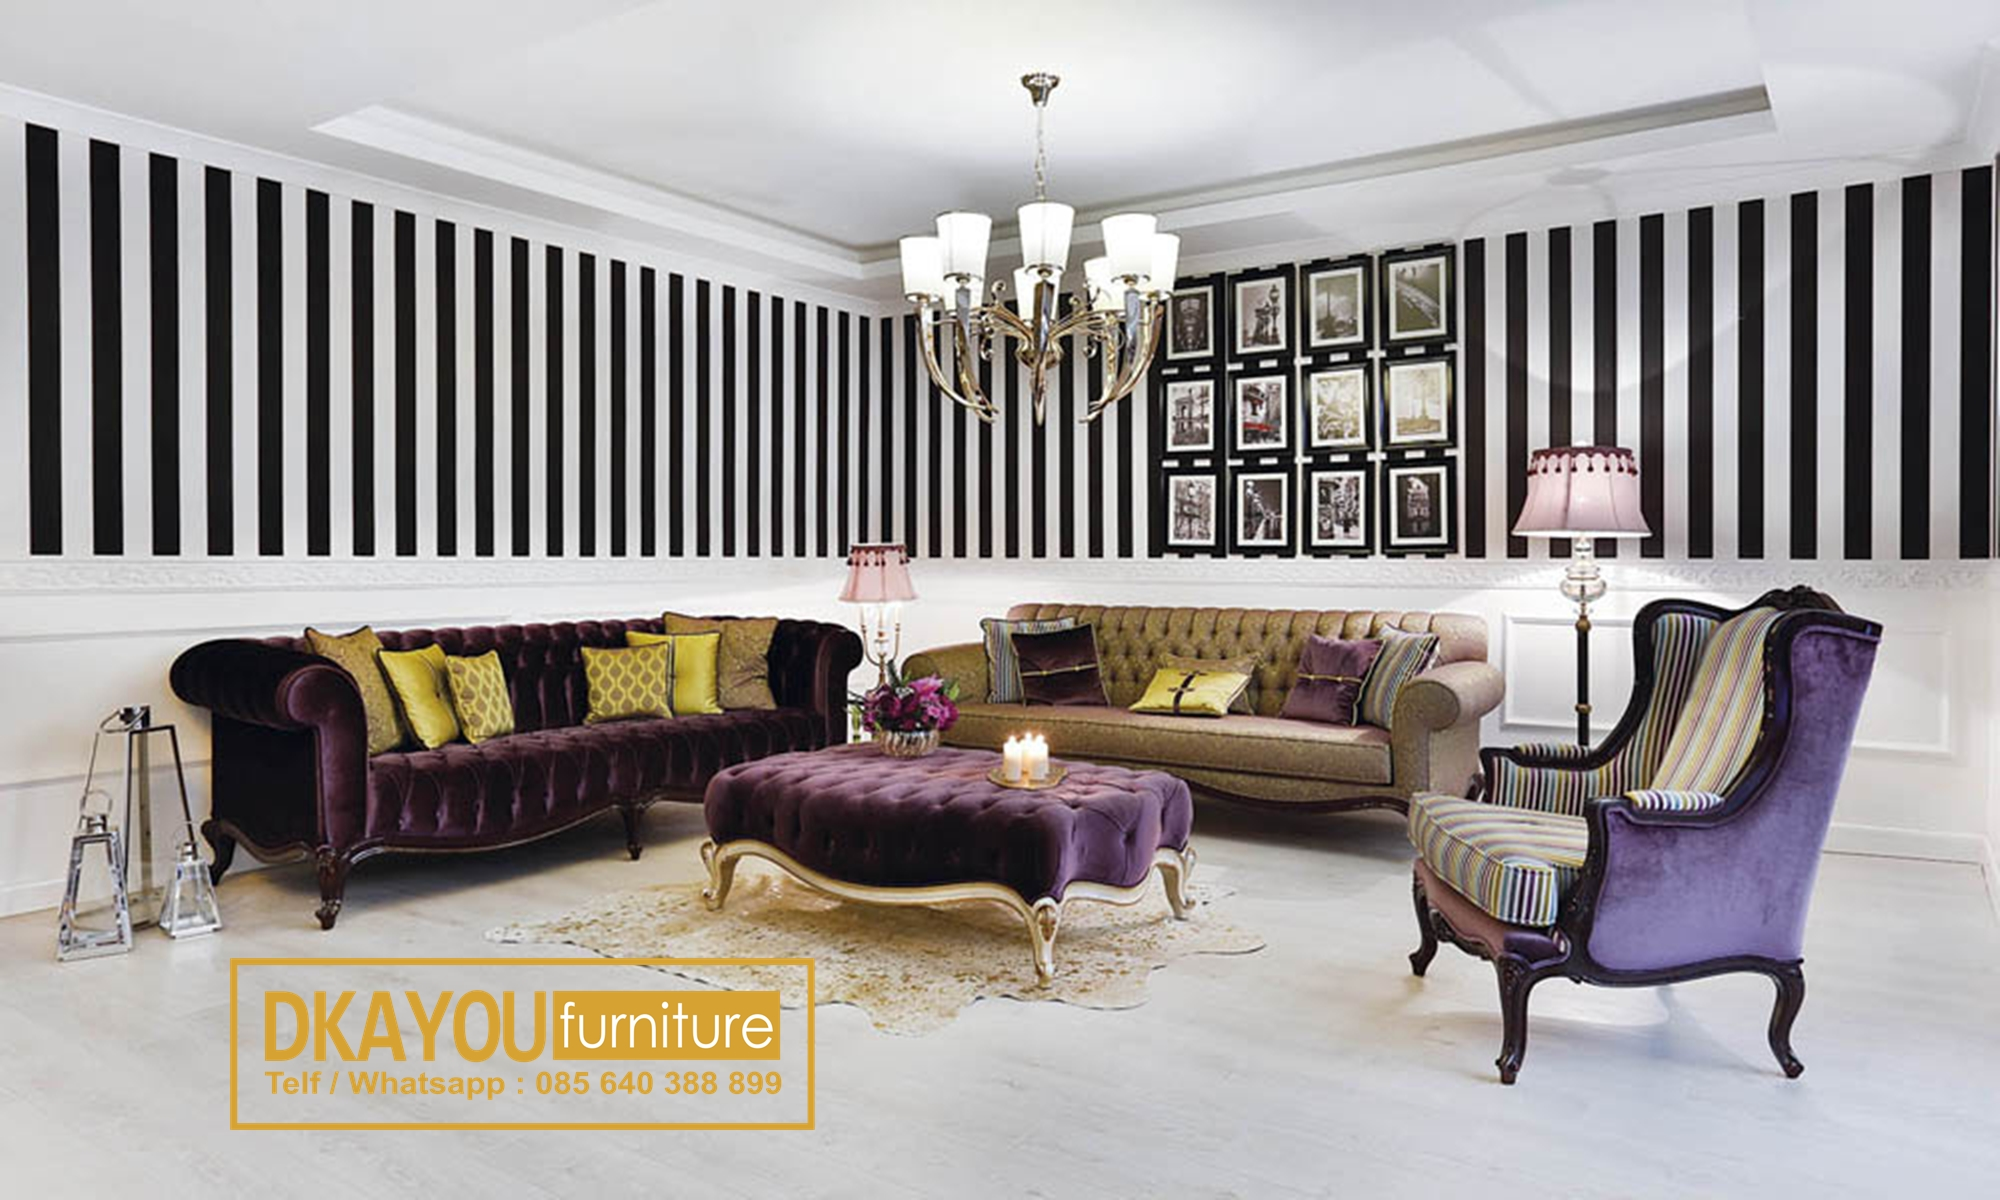kursi: (1407, 599, 1881, 1089)
lampu: (866, 69, 1179, 411), (1510, 449, 1651, 736)
meja: (704, 736, 1209, 959)
sova: (171, 630, 869, 874), (897, 599, 1489, 801)
